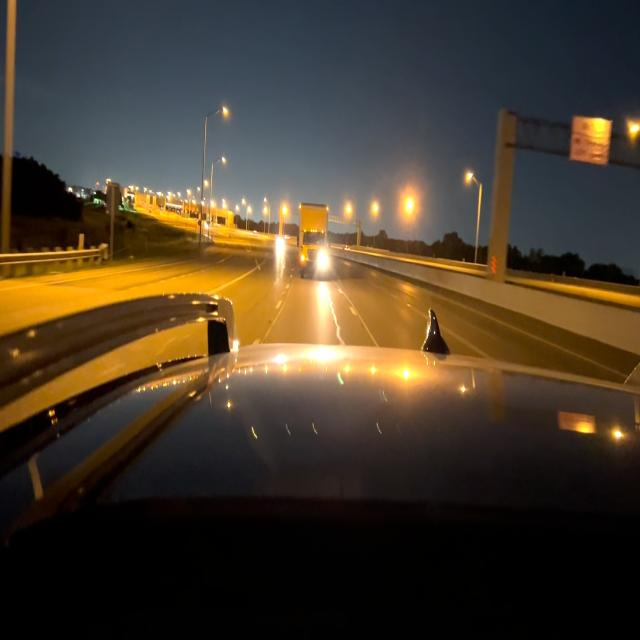back-of-sign: (109, 184, 119, 215)
